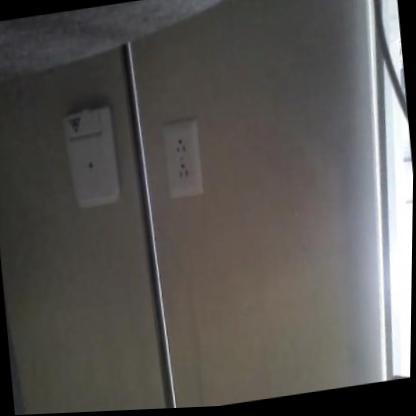OUTLET: (160, 117, 205, 198)
